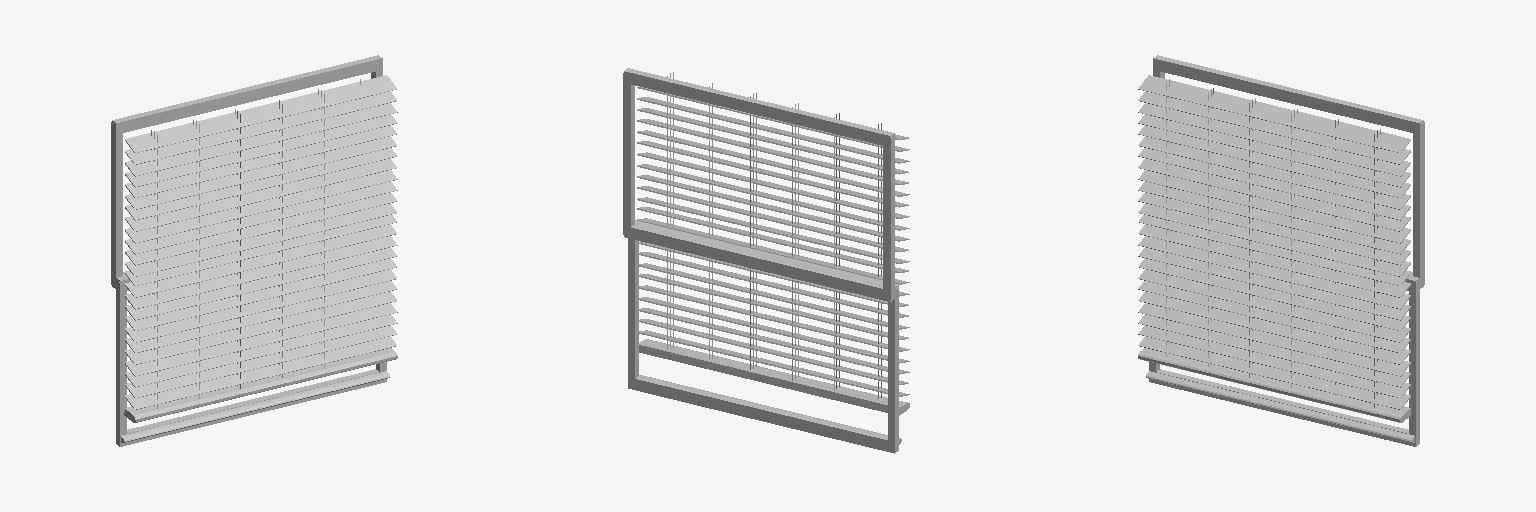
File: blind_window.obj
The picture shows the model from 3 angles: view 1: azimuth 30°, elevation 25°; view 2: azimuth 150°, elevation 25°; view 3: azimuth 330°, elevation 25°; orthographic projection.
Parts seen in each view (by area): view 1: slits blind blind_window blind_slit17, blind_window window pCube1 window_top, slits blind blind_window blind_base, slits blind blind_window blind_slit6, slits blind blind_window blind_slit4, slits blind blind_window blind_slit10, slits blind blind_window blind_slit12, slits blind blind_window blind_slit16, slits blind blind_window blind_slit21, blind_slit slits blind blind_window, slits blind blind_window blind_slit3, slits blind blind_window blind_slit18 (+18 smaller); view 2: blind_window window_bottom window pCube2, blind_window window pCube1 window_top, blind_window window window_top pCube2, slits blind blind_window blind_base, blind_window window window_top pCube3, blind_window window window_top pCube4, blind_window window_bottom window pCube3, blind_window window_bottom window pCube4, slits blind blind_window blind_slit6, slits blind blind_window blind_slit8, slits blind blind_window blind_slit15, slits blind blind_window blind_slit20 (+19 smaller); view 3: slits blind blind_window blind_slit17, blind_window window pCube1 window_top, slits blind blind_window blind_base, slits blind blind_window blind_slit4, blind_slit slits blind blind_window, slits blind blind_window blind_slit6, slits blind blind_window blind_slit12, slits blind blind_window blind_slit16, slits blind blind_window blind_slit10, slits blind blind_window blind_slit18, slits blind blind_window blind_slit22, slits blind blind_window blind_slit3 (+18 smaller).
Boxes of the visible parts, x1,y1,x2,y2 form: slits blind blind_window blind_slit17: [125, 75, 396, 152]; blind_window window pCube1 window_top: [112, 55, 382, 134]; slits blind blind_window blind_base: [124, 348, 397, 422]; slits blind blind_window blind_slit6: [125, 336, 396, 409]; slits blind blind_window blind_slit4: [125, 224, 396, 297]; slits blind blind_window blind_slit10: [125, 291, 396, 364]; slits blind blind_window blind_slit12: [125, 136, 396, 209]; slits blind blind_window blind_slit16: [125, 91, 396, 164]; slits blind blind_window blind_slit21: [125, 170, 397, 243]; blind_slit slits blind blind_window: [125, 269, 396, 342]; slits blind blind_window blind_slit3: [125, 236, 397, 309]; slits blind blind_window blind_slit18: [125, 203, 396, 276]; blind_window window_bottom window pCube2: [628, 376, 898, 453]; blind_window window pCube1 window_top: [624, 68, 894, 146]; blind_window window window_top pCube2: [624, 224, 894, 301]; slits blind blind_window blind_base: [639, 339, 909, 415]; blind_window window window_top pCube3: [883, 135, 894, 299]; blind_window window window_top pCube4: [623, 73, 634, 236]; blind_window window_bottom window pCube3: [888, 287, 898, 451]; blind_window window_bottom window pCube4: [628, 238, 638, 387]; slits blind blind_window blind_slit6: [639, 330, 909, 396]; slits blind blind_window blind_slit8: [639, 308, 909, 374]; slits blind blind_window blind_slit15: [637, 97, 909, 163]; slits blind blind_window blind_slit20: [637, 175, 909, 241]; slits blind blind_window blind_slit17: [1138, 75, 1410, 152]; blind_window window pCube1 window_top: [1153, 55, 1423, 133]; slits blind blind_window blind_base: [1138, 348, 1410, 422]; slits blind blind_window blind_slit4: [1138, 224, 1410, 297]; blind_slit slits blind blind_window: [1138, 269, 1410, 342]; slits blind blind_window blind_slit6: [1138, 336, 1410, 409]; slits blind blind_window blind_slit12: [1138, 136, 1410, 209]; slits blind blind_window blind_slit16: [1138, 91, 1410, 164]; slits blind blind_window blind_slit10: [1138, 291, 1410, 364]; slits blind blind_window blind_slit18: [1138, 203, 1410, 276]; slits blind blind_window blind_slit22: [1138, 158, 1410, 231]; slits blind blind_window blind_slit3: [1138, 236, 1410, 309].
Bounding box in the file's own units: 36.2 × 41.49 × 5.11.